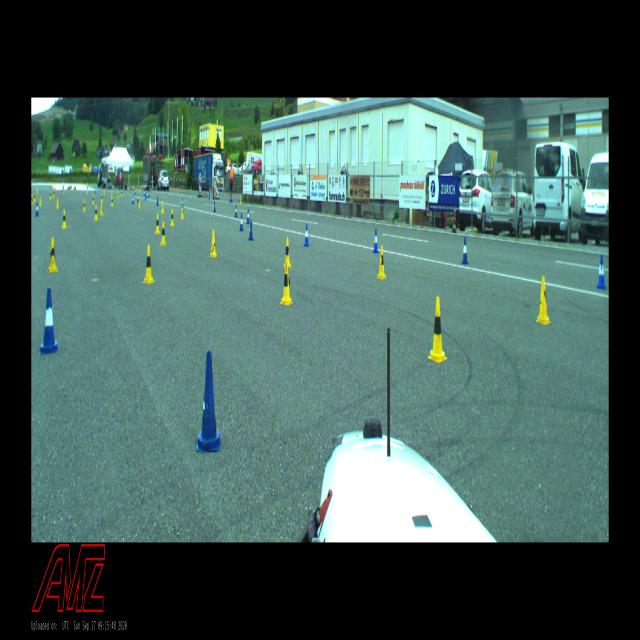blue_cone: (196, 351, 222, 452), (40, 288, 58, 354), (597, 254, 607, 290), (462, 236, 468, 264), (373, 229, 379, 253), (304, 224, 310, 246), (248, 220, 254, 240), (246, 208, 250, 224), (240, 213, 243, 231), (35, 202, 39, 215), (235, 205, 238, 217), (213, 200, 216, 212), (156, 196, 159, 206), (132, 194, 134, 204), (181, 198, 183, 208), (230, 194, 232, 202), (137, 194, 139, 202), (144, 192, 146, 200), (208, 192, 210, 200)
yellow_cone: (428, 296, 448, 362), (536, 276, 552, 324), (280, 261, 294, 305), (142, 245, 154, 283), (47, 238, 59, 272), (376, 246, 386, 278), (284, 237, 292, 267), (210, 230, 218, 258), (160, 221, 167, 245), (154, 214, 160, 234), (62, 210, 66, 228), (170, 210, 174, 226), (94, 205, 98, 221), (180, 205, 184, 219), (100, 201, 103, 215), (38, 196, 42, 206), (161, 200, 164, 212), (56, 197, 59, 208), (83, 200, 86, 210), (138, 199, 141, 209), (111, 194, 113, 206), (86, 182, 88, 194), (33, 190, 35, 202), (31, 193, 33, 204), (101, 192, 103, 202), (62, 183, 64, 193), (92, 195, 94, 204), (118, 190, 120, 198), (52, 190, 54, 198), (240, 196, 242, 203), (50, 191, 51, 199), (121, 189, 122, 196)
